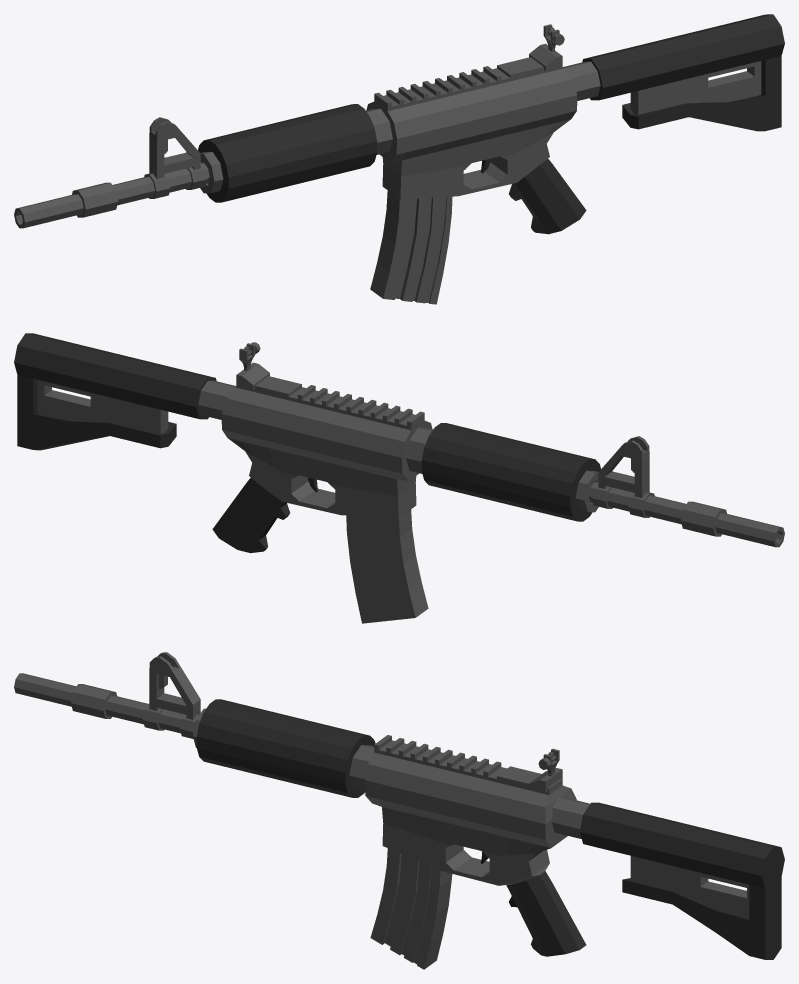
3 renders of one model, top to bottom at view 1: azimuth 30°, elevation 25°; view 2: azimuth 150°, elevation 25°; view 3: azimuth 330°, elevation 25°, orthographic.
Parts seen in each view (by area): view 1: M4_Rifle_Mesh; view 2: M4_Rifle_Mesh; view 3: M4_Rifle_Mesh.
Boxes of the visible parts, <box> form: M4_Rifle_Mesh: <box>14,14,784,304</box>; M4_Rifle_Mesh: <box>14,333,784,623</box>; M4_Rifle_Mesh: <box>14,652,784,969</box>.
Size of the model in its own units: 0.826 by 0.2566 by 0.0608.
Materials: 1 (1 with a texture image).
